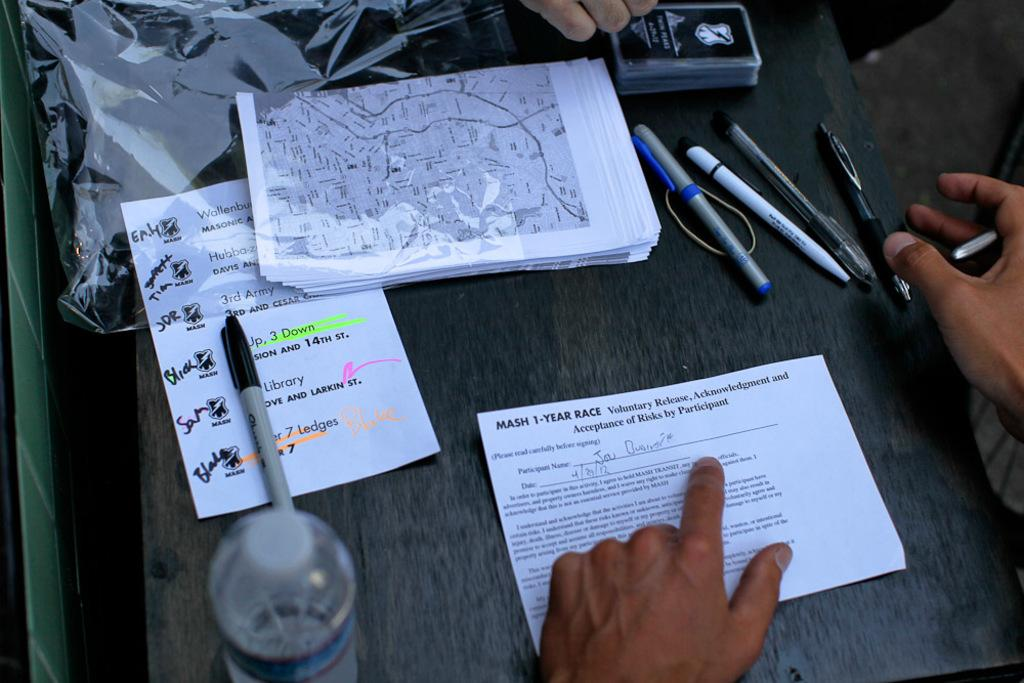pen: (723, 116, 872, 288), (635, 116, 767, 298), (688, 141, 847, 279), (806, 121, 913, 304), (224, 310, 304, 526)
